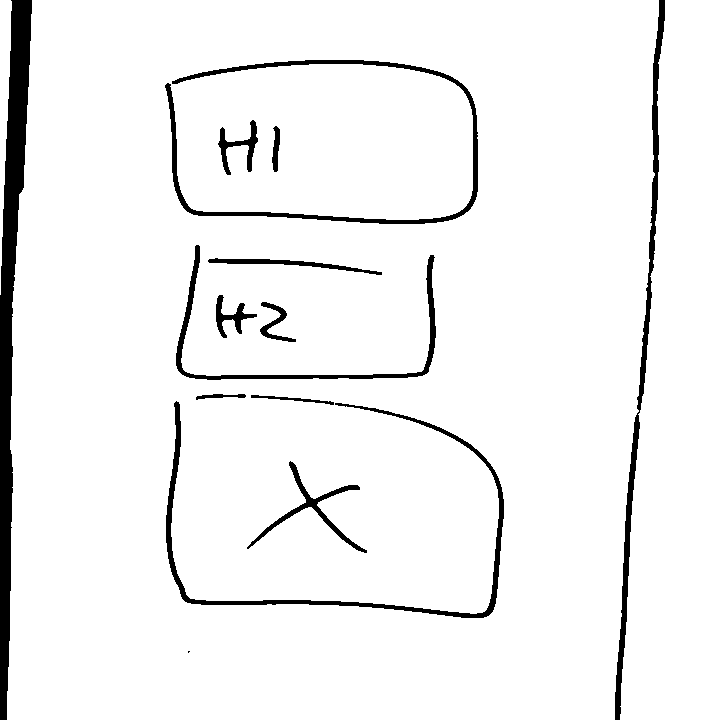heading1: (158, 58, 484, 226)
heading2: (168, 241, 448, 387)
picture: (163, 393, 514, 623)
